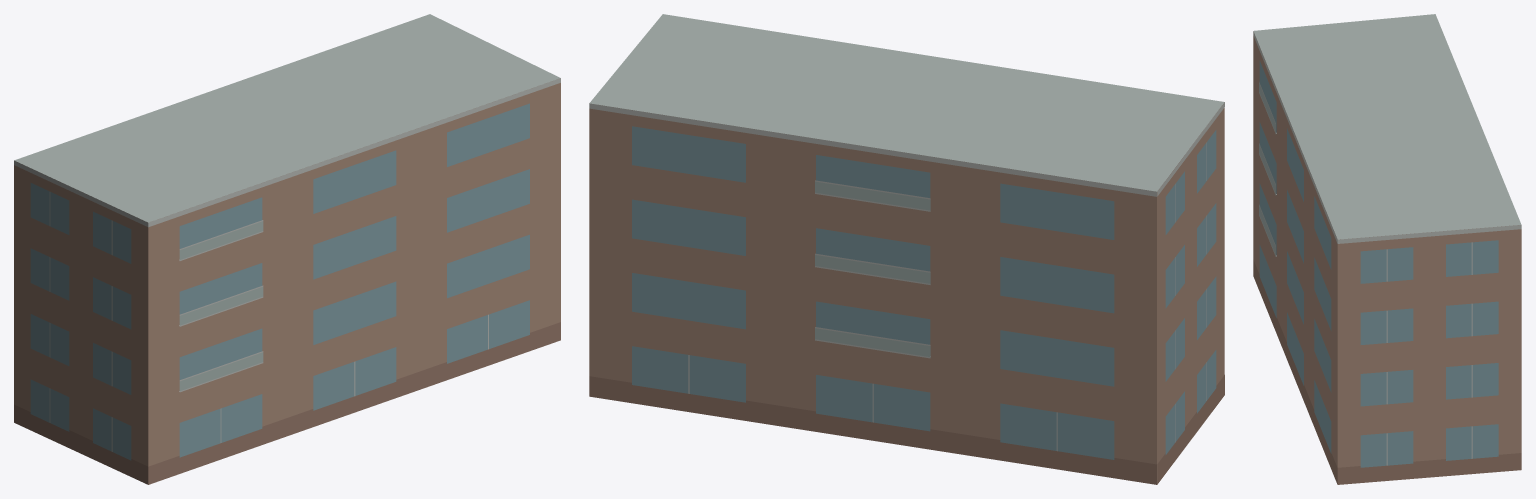
File: survey-upis-32821084.glb
The picture shows the model from 3 angles, left to right: view 1: azimuth 30°, elevation 25°; view 2: azimuth 150°, elevation 25°; view 3: azimuth 270°, elevation 25°; orthographic projection. The views are drawn at different scales.
Parts seen in each view (by area): view 1: survey-upis-32821084.tmp; view 2: survey-upis-32821084.tmp; view 3: survey-upis-32821084.tmp.
Boxes of the visible parts, left/top/right/bottom form: survey-upis-32821084.tmp: left=14, top=14, right=560, bottom=484; survey-upis-32821084.tmp: left=589, top=14, right=1224, bottom=484; survey-upis-32821084.tmp: left=1253, top=14, right=1521, bottom=484.
Bounding box in the file's own units: 27.12 × 13.74 × 13.63.
